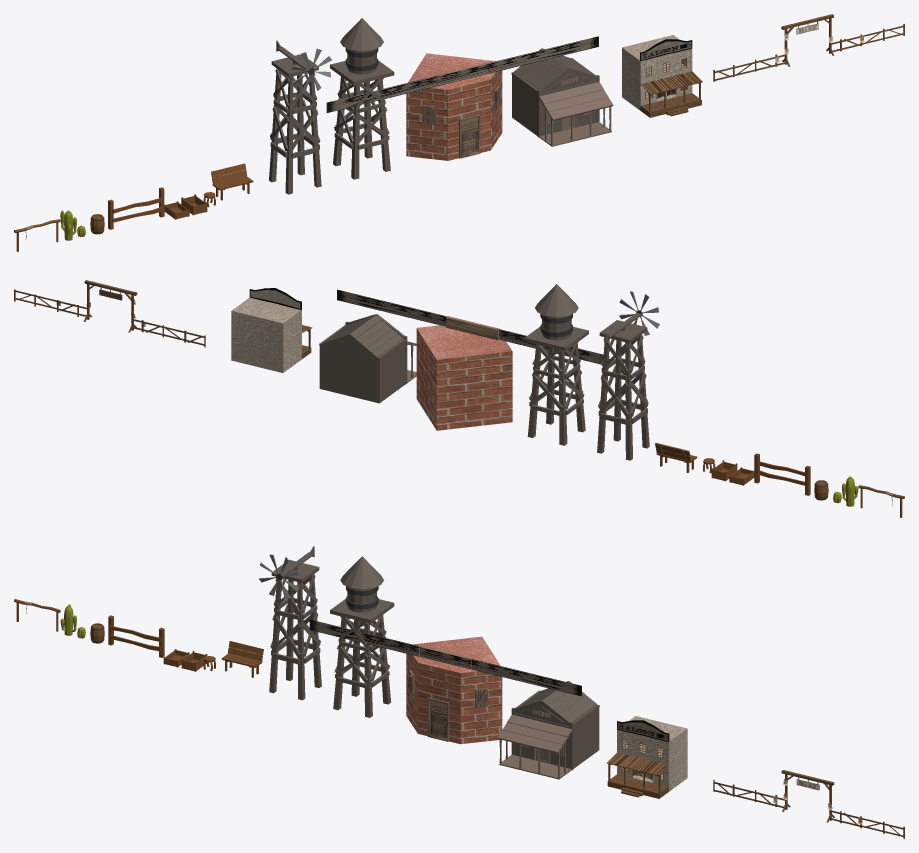
Rendered from western models.fbx.
The picture shows the model from 3 angles, top to bottom: view 1: azimuth 30°, elevation 25°; view 2: azimuth 150°, elevation 25°; view 3: azimuth 330°, elevation 25°; orthographic projection.
Visible parts, largest first — view 1: Cube, Cube.003, Cube.011, Cube.014, Cube.001, Cube.010, Cone.004, Cube.005, Cube.022, Cube.016, Cylinder.001, Cube.002; view 2: Cube, Cube.003, Cube.011, Cube.001, Cube.014, Cube.010, Cone.004, Cube.016, Cube.008, Cube.022; view 3: Cube, Cube.003, Cube.011, Cube.001, Cube.014, Cube.010, Cone.004, Cube.005, Cube.022, Cube.016.
Boxes of the visible parts, <box> form: Cube: <box>406,53,502,160</box>; Cube.003: <box>511,48,613,146</box>; Cube.011: <box>330,18,394,179</box>; Cube.014: <box>269,40,321,194</box>; Cube.001: <box>622,35,702,117</box>; Cube.010: <box>326,36,598,112</box>; Cone.004: <box>713,14,904,81</box>; Cube.005: <box>459,114,480,158</box>; Cube.022: <box>211,163,253,200</box>; Cube.016: <box>108,187,164,229</box>; Cylinder.001: <box>291,48,331,93</box>; Cube.002: <box>641,41,691,59</box>; Cube: <box>416,325,512,430</box>; Cube.003: <box>319,314,416,403</box>; Cube.011: <box>524,284,588,445</box>; Cube.001: <box>231,288,312,372</box>; Cube.014: <box>597,312,649,460</box>; Cube.010: <box>337,289,609,364</box>; Cone.004: <box>14,280,205,347</box>; Cube.016: <box>754,453,810,495</box>; Cube.008: <box>446,316,499,340</box>; Cube.022: <box>655,443,697,472</box>; Cube: <box>406,636,502,744</box>; Cube.003: <box>498,681,599,779</box>; Cube.011: <box>330,556,394,717</box>; Cube.001: <box>607,716,687,798</box>; Cube.014: <box>269,546,321,700</box>; Cube.010: <box>309,619,581,696</box>; Cone.004: <box>713,770,904,838</box>; Cube.005: <box>428,697,449,741</box>; Cube.022: <box>221,641,263,677</box>; Cube.016: <box>108,615,164,657</box>.
Size of the model in its own units: 17612 by 2850 by 1905.
9 materials, 3 textured.
